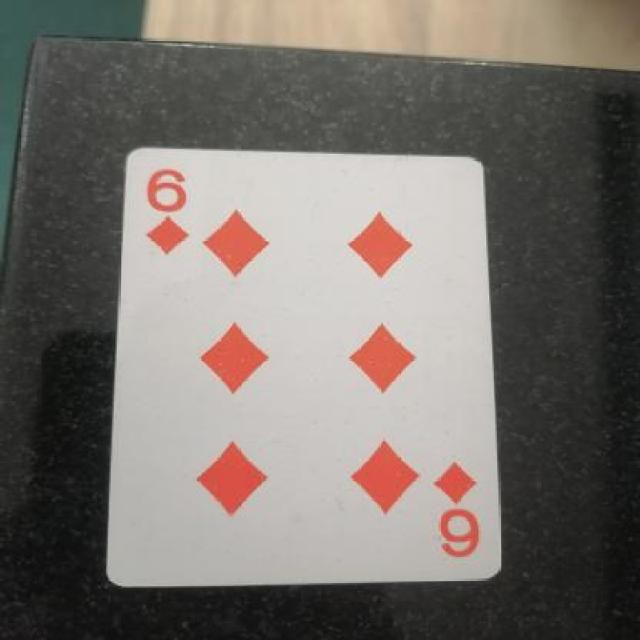6D: (419, 452, 504, 576), (130, 164, 208, 262)
